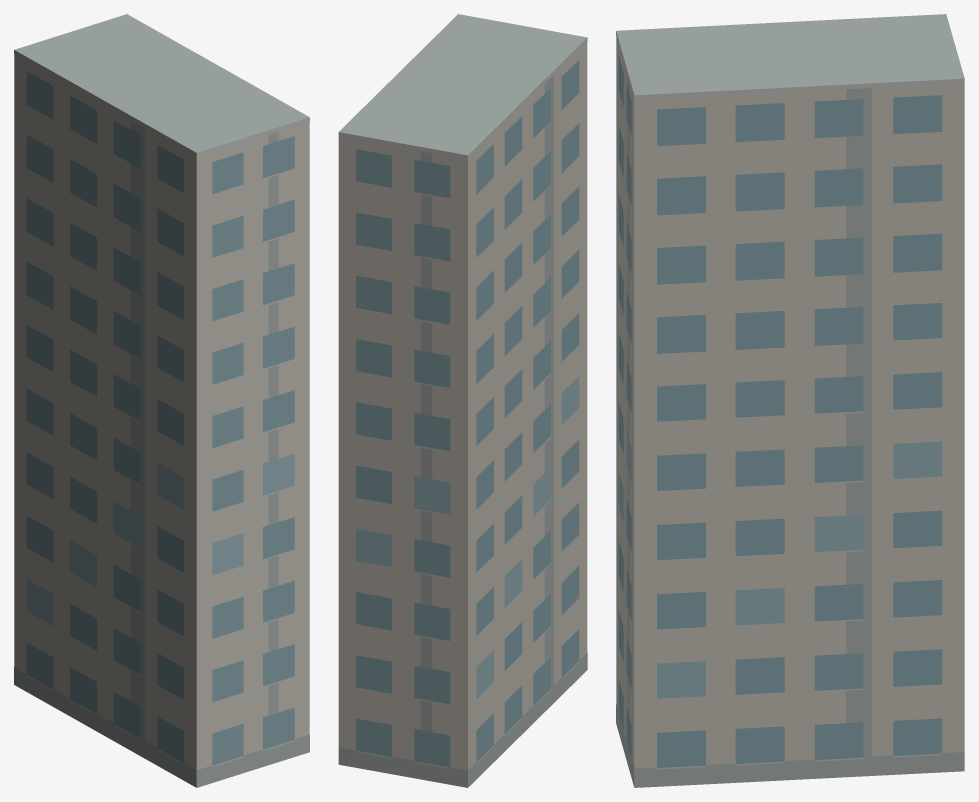
Rendered from residential-7219c3ac-1c68-4691-be2b-a5d61062ef3c.glb.
The picture shows the model from 3 angles, left to right: view 1: azimuth 30°, elevation 25°; view 2: azimuth 150°, elevation 25°; view 3: azimuth 270°, elevation 25°; orthographic projection. The views are drawn at different scales.
Visible parts, largest first — view 1: residential-7219c3ac-1c68-4691-be2b-a5d61062ef3c.tmp; view 2: residential-7219c3ac-1c68-4691-be2b-a5d61062ef3c.tmp; view 3: residential-7219c3ac-1c68-4691-be2b-a5d61062ef3c.tmp.
Boxes of the visible parts, x1=… form: residential-7219c3ac-1c68-4691-be2b-a5d61062ef3c.tmp: x1=14, y1=14, x2=309, y2=787; residential-7219c3ac-1c68-4691-be2b-a5d61062ef3c.tmp: x1=338, y1=14, x2=587, y2=787; residential-7219c3ac-1c68-4691-be2b-a5d61062ef3c.tmp: x1=616, y1=14, x2=964, y2=787.
Size of the model in its own units: 8.82 by 35 by 15.98.
